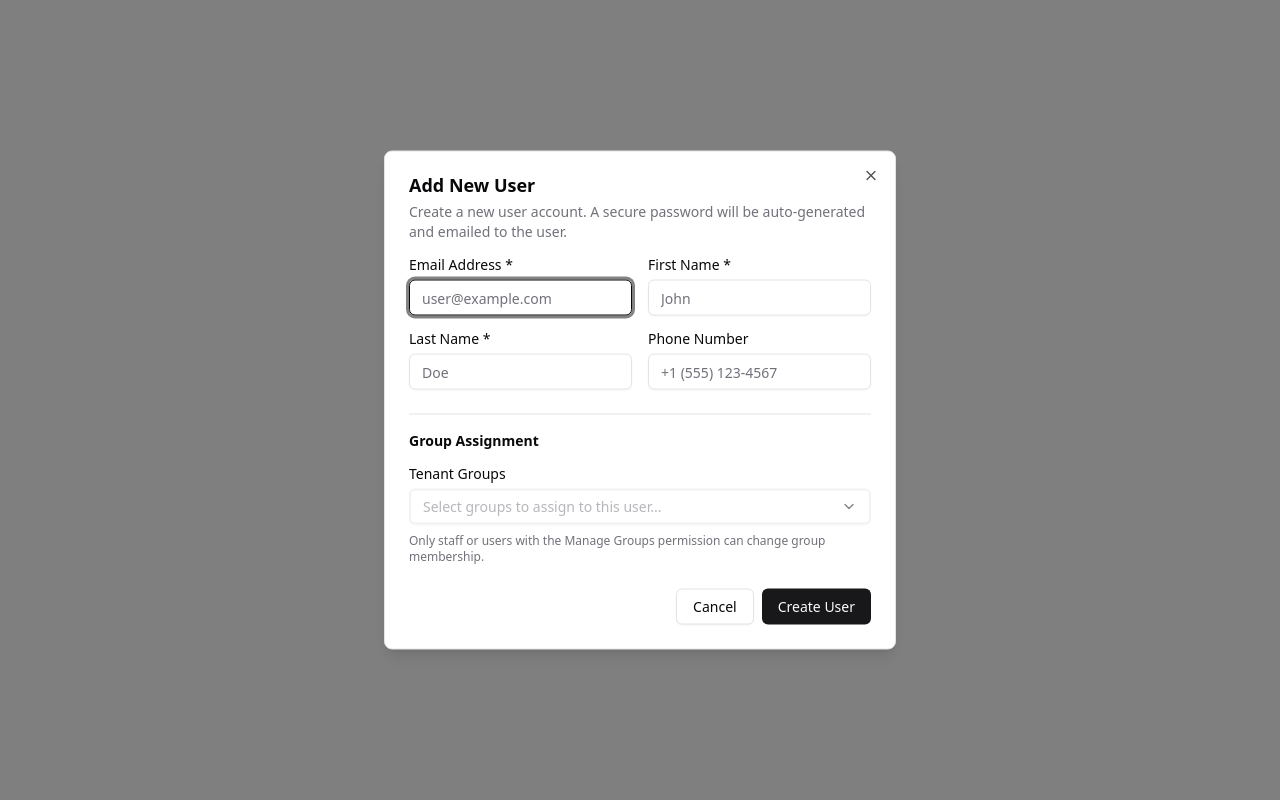
Test case: UserForm › create mode › shows error when submission fails
Type "new@test.com" into the field labelled "Email Address *" at {"x": 520, "y": 298}, box [409,280,632,316]
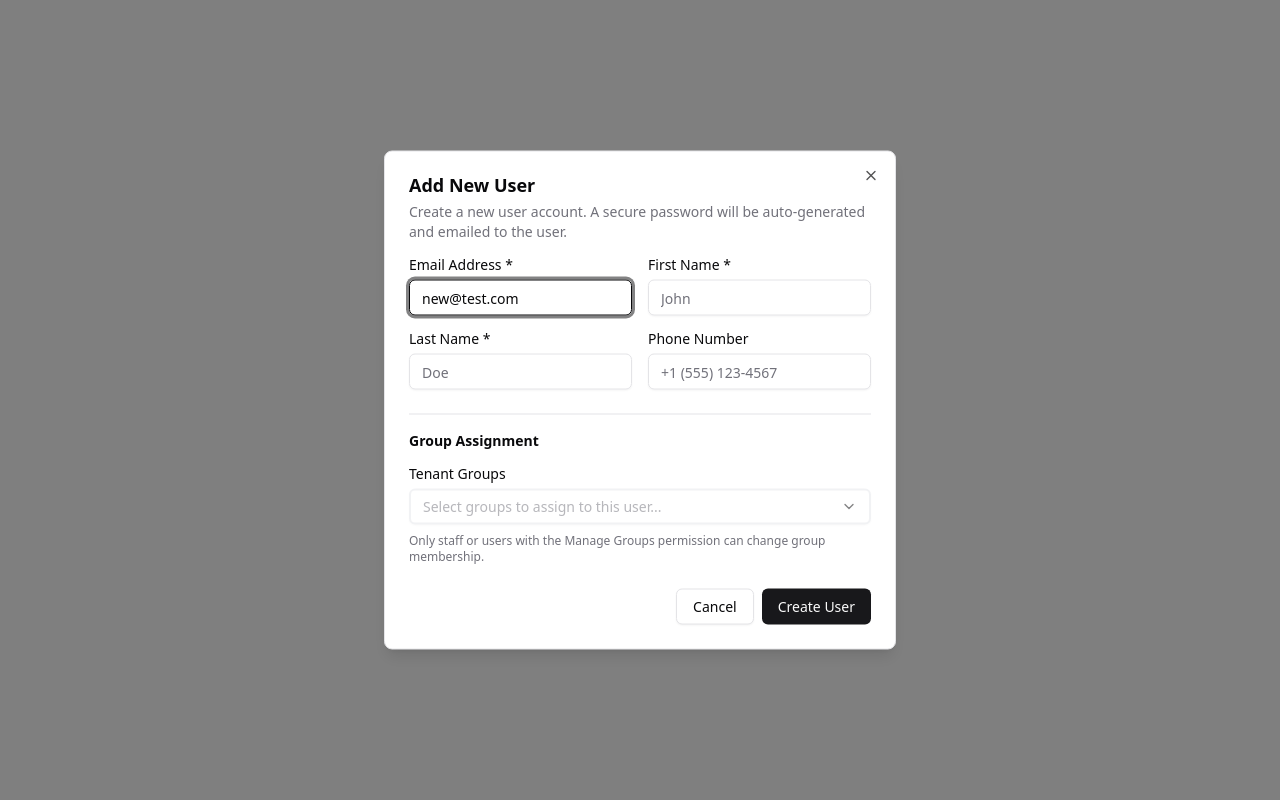
Type "New" into the field labelled "First Name *" at {"x": 760, "y": 298}, box [648,280,871,316]
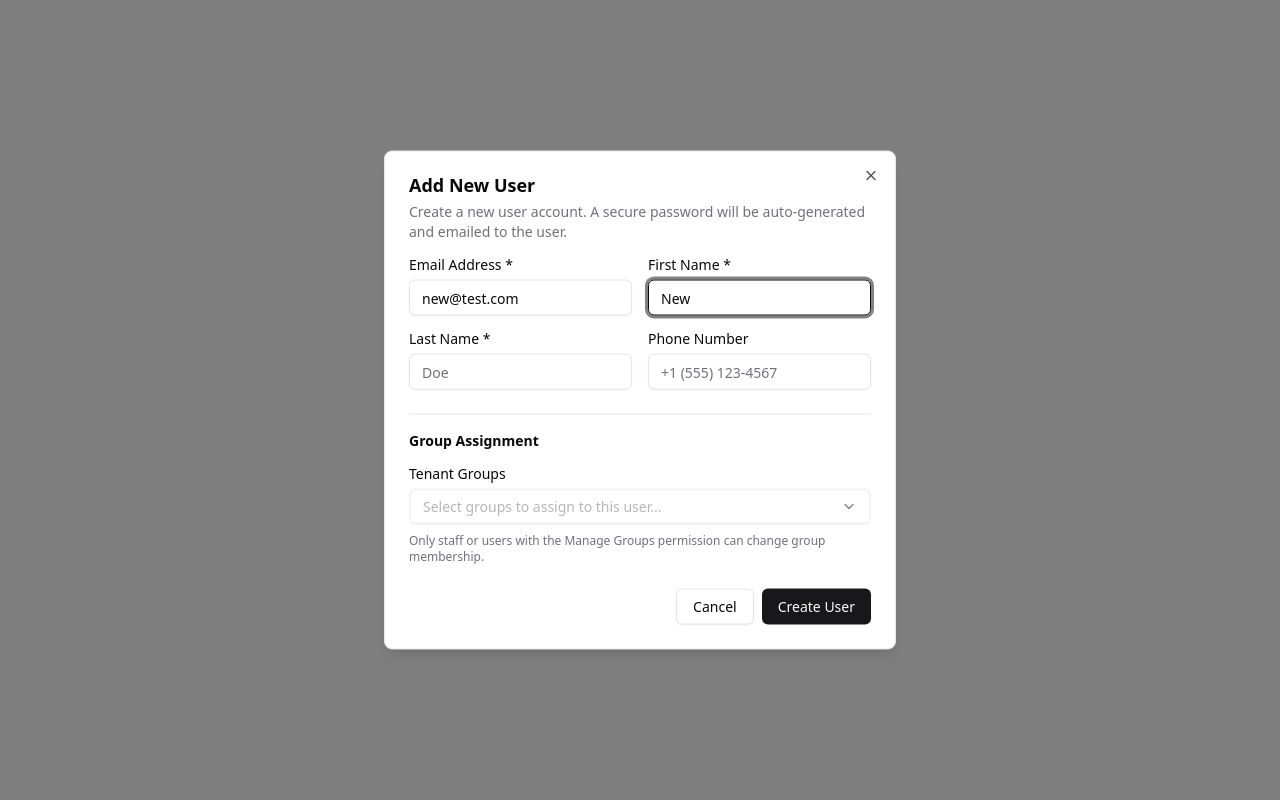
Type "User" into the field labelled "Last Name *" at {"x": 520, "y": 372}, box [409,354,632,390]
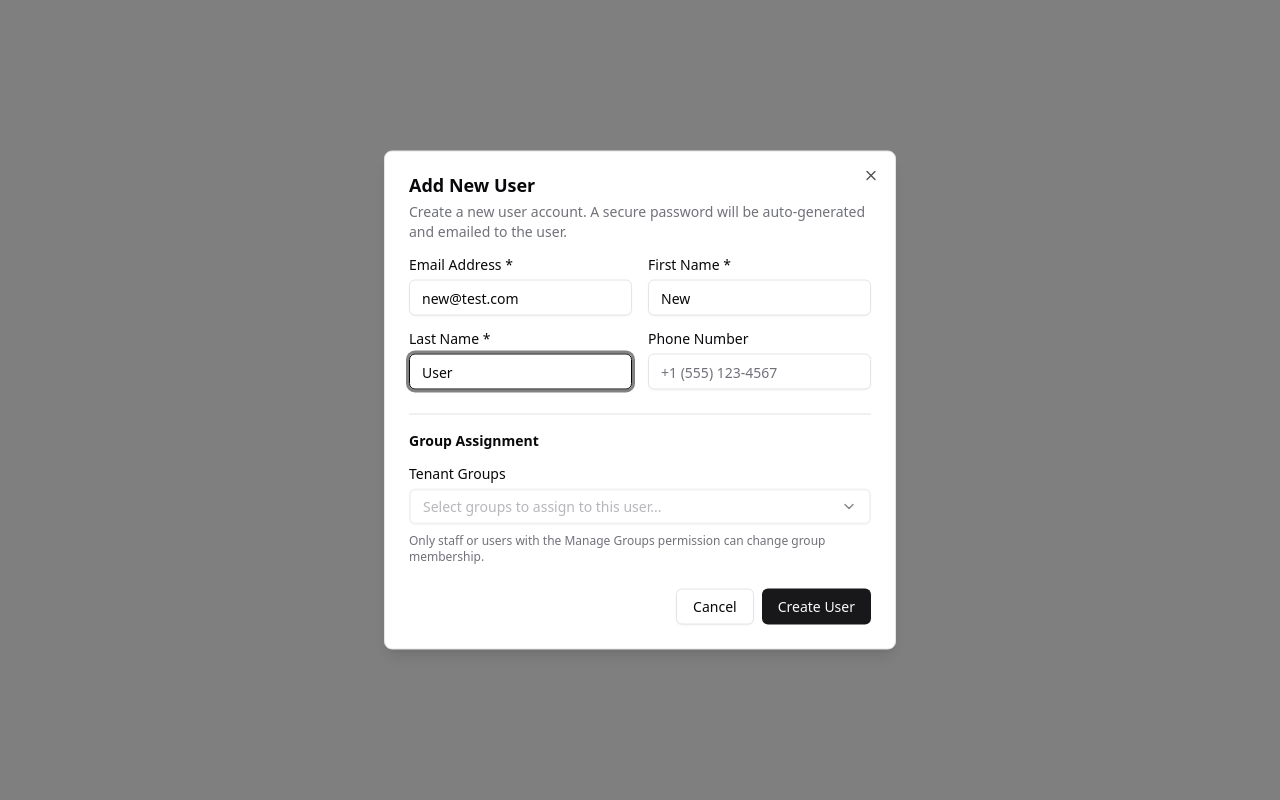
Click the button "Create User" at {"x": 816, "y": 606}, box [762,588,871,624]
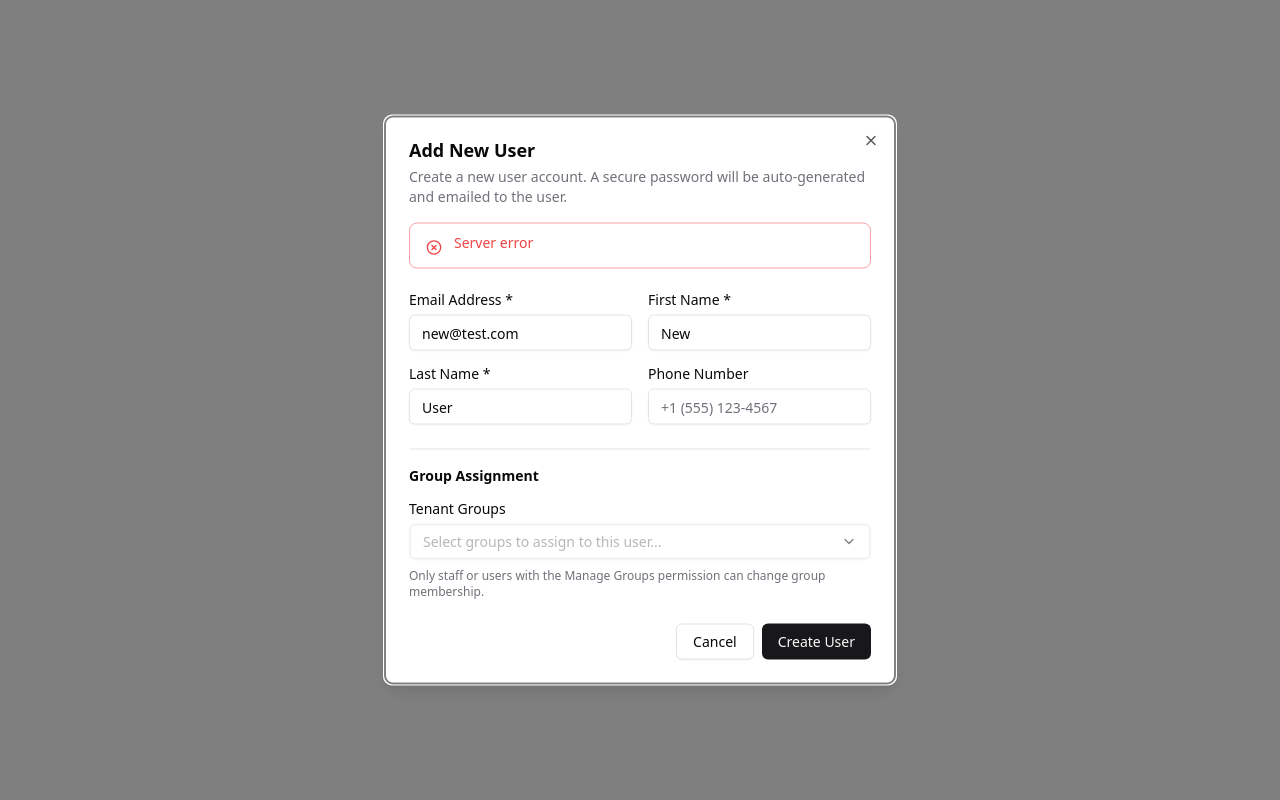
Now the text "Server error" is shown, box [454,232,533,252]
